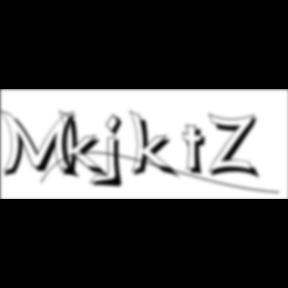M: (1, 108, 84, 181)
Z: (208, 112, 262, 181)
j: (102, 113, 130, 191)
k: (58, 108, 112, 181), (130, 108, 182, 181)
t: (182, 124, 214, 179)
